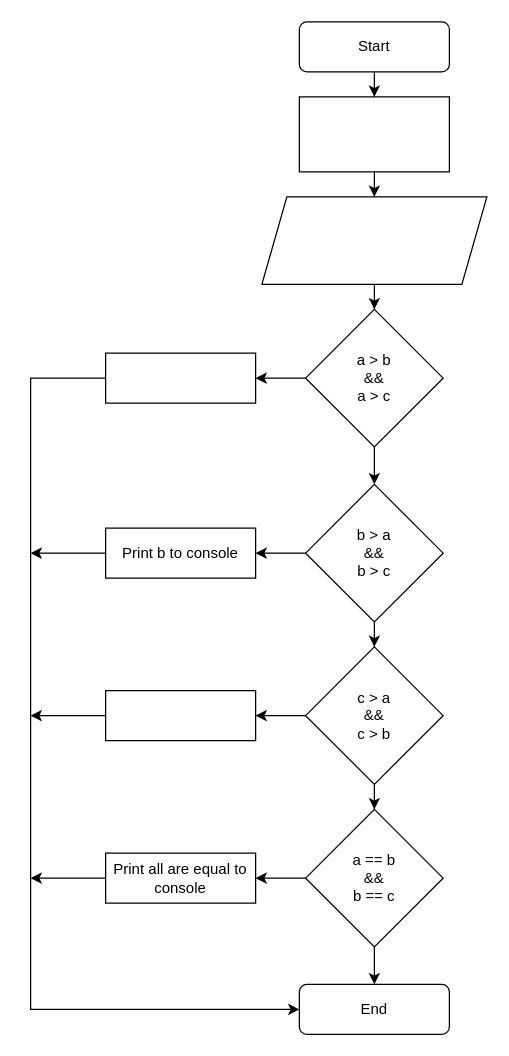
Image size: 509x1056. Some labels were removed from this diagram. Each missing label, with the box of its shape:
Declare 3 variables a, b, c: (298, 96, 449, 172)
Print a to console: (104, 352, 256, 403)
Print c to console: (104, 689, 256, 741)
Take 3 int inputs from the user and assign it to a, b, c: (261, 196, 487, 284)
